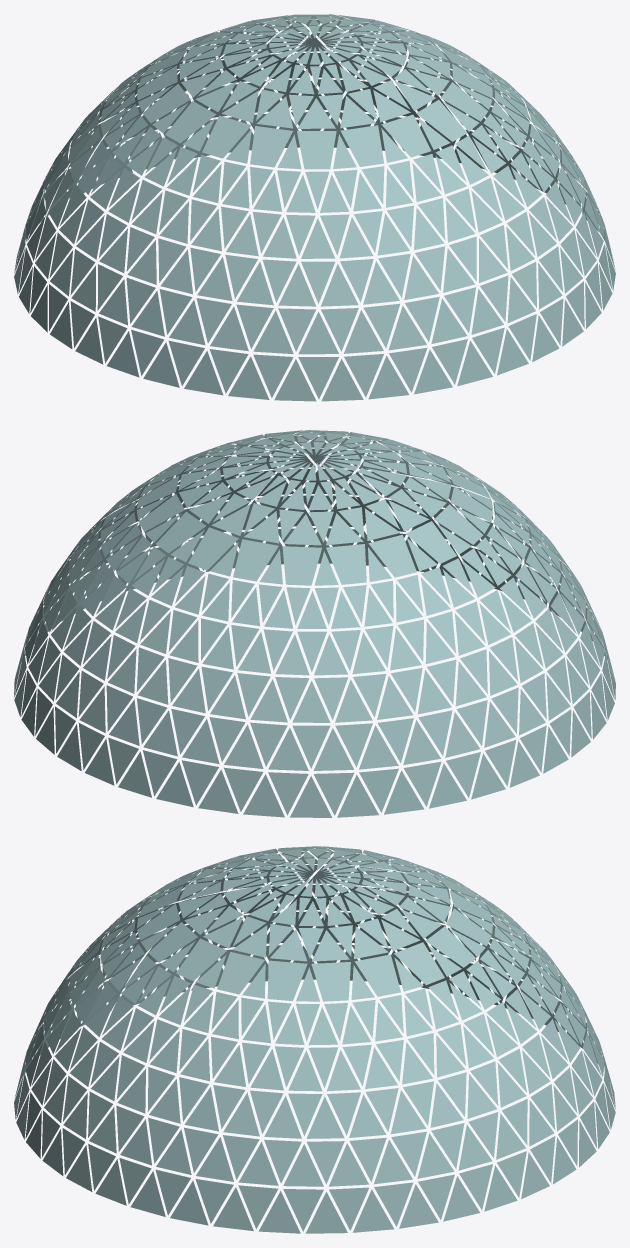
Rendered from glass_gydroponica.fbx.
3 renders of one model, top to bottom at view 1: azimuth 30°, elevation 25°; view 2: azimuth 150°, elevation 25°; view 3: azimuth 270°, elevation 25°, orthographic.
Parts seen in each view (by area): view 1: polySurface518; view 2: polySurface518; view 3: polySurface518.
Boxes of the visible parts, bbox=[...] form: polySurface518: bbox=[14, 14, 615, 401]; polySurface518: bbox=[14, 430, 615, 817]; polySurface518: bbox=[14, 846, 615, 1233].
Size of the model in its own units: 63.2 by 26.84 by 63.2.
Materials: 1 (1 with a texture image).
